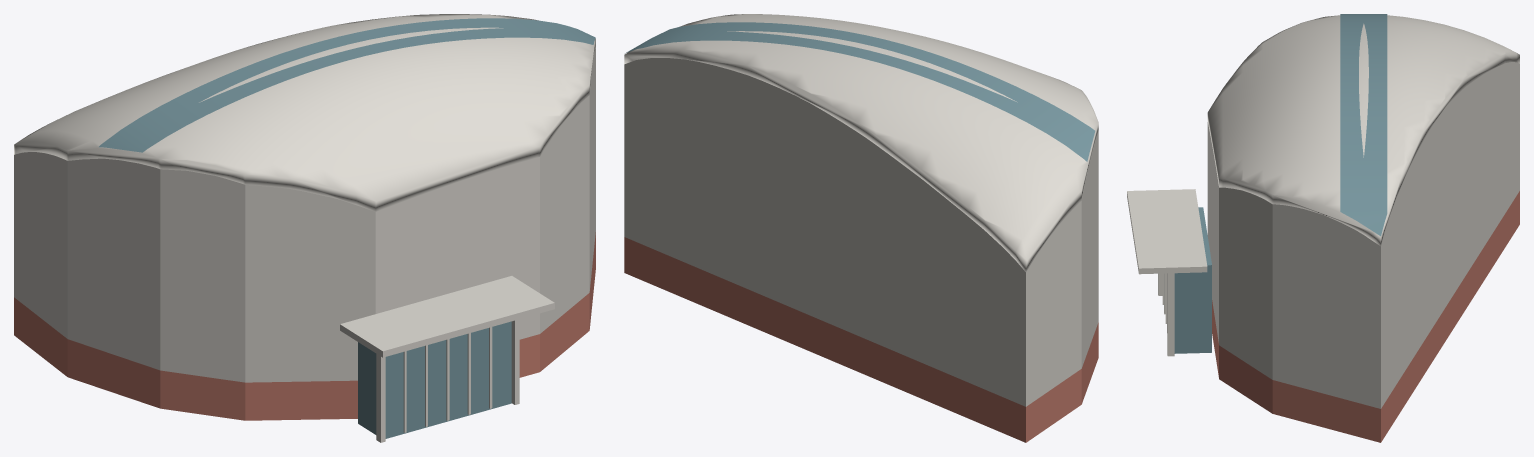
Rendered from jca.glb.
3 renders of one model, left to right at view 1: azimuth 30°, elevation 25°; view 2: azimuth 150°, elevation 25°; view 3: azimuth 270°, elevation 25°, orthographic. The views are drawn at different scales.
Parts seen in each view (by area): view 1: JCA_hall, JCA_roof, JCA_plinth, JCA_roof_glass, JCA_foyer, JCA_canopy, JCA_frame_l, JCA_frame_r; view 2: JCA_hall, JCA_roof, JCA_plinth, JCA_roof_glass; view 3: JCA_hall, JCA_roof, JCA_plinth, JCA_roof_glass, JCA_canopy, JCA_foyer, JCA_frame_r.
Part boxes in pixels (x1,y1,x2,y2): JCA_hall: (14,49,595,382); JCA_roof: (14,14,595,211); JCA_plinth: (14,232,595,420); JCA_roof_glass: (99,18,595,152); JCA_foyer: (358,321,511,438); JCA_canopy: (340,276,554,357); JCA_frame_l: (376,354,385,442); JCA_frame_r: (511,319,519,404); JCA_hall: (624,58,1098,406); JCA_roof: (624,14,1098,271); JCA_plinth: (624,237,1098,442); JCA_roof_glass: (625,22,1095,161); JCA_hall: (1207,62,1519,408); JCA_roof: (1207,15,1519,246); JCA_plinth: (1212,191,1519,442); JCA_roof_glass: (1340,14,1387,236); JCA_canopy: (1127,189,1207,274); JCA_foyer: (1174,207,1211,353); JCA_frame_r: (1167,273,1174,356).
Bounding box in the file's own units: 33.32 × 18.4 × 25.18.
